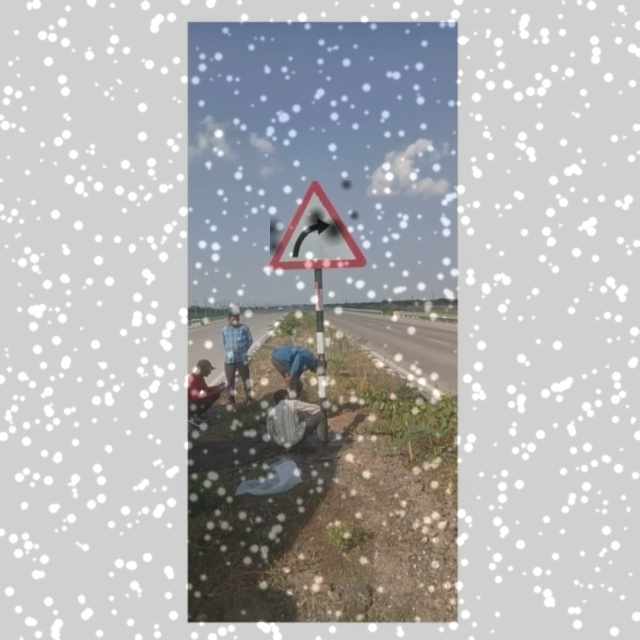Right_Hand_Curve: (270, 180, 363, 268)
